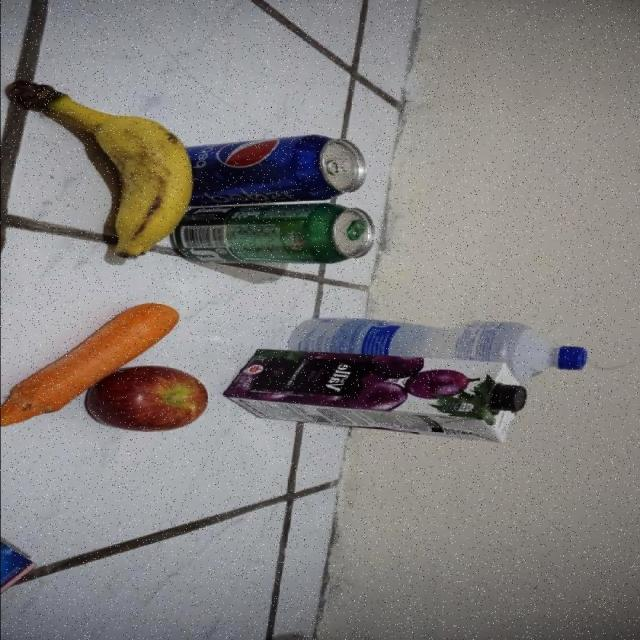AlcoholBottle: (288, 320, 588, 380)
Apple: (80, 364, 210, 432)
Banana: (4, 80, 194, 258)
BeerCan: (170, 203, 376, 265)
Carrot: (0, 304, 180, 428)
Gelatine: (0, 537, 38, 598)
SodaCan: (170, 135, 366, 203)
